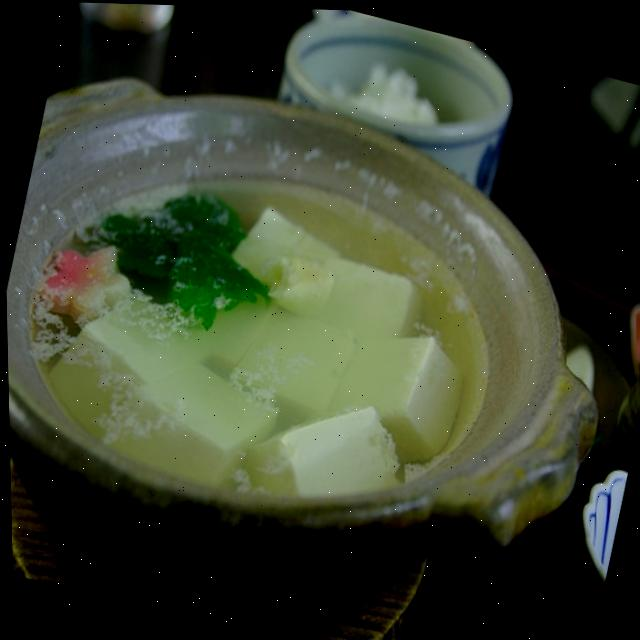豆腐料理: (1, 33, 640, 632)
